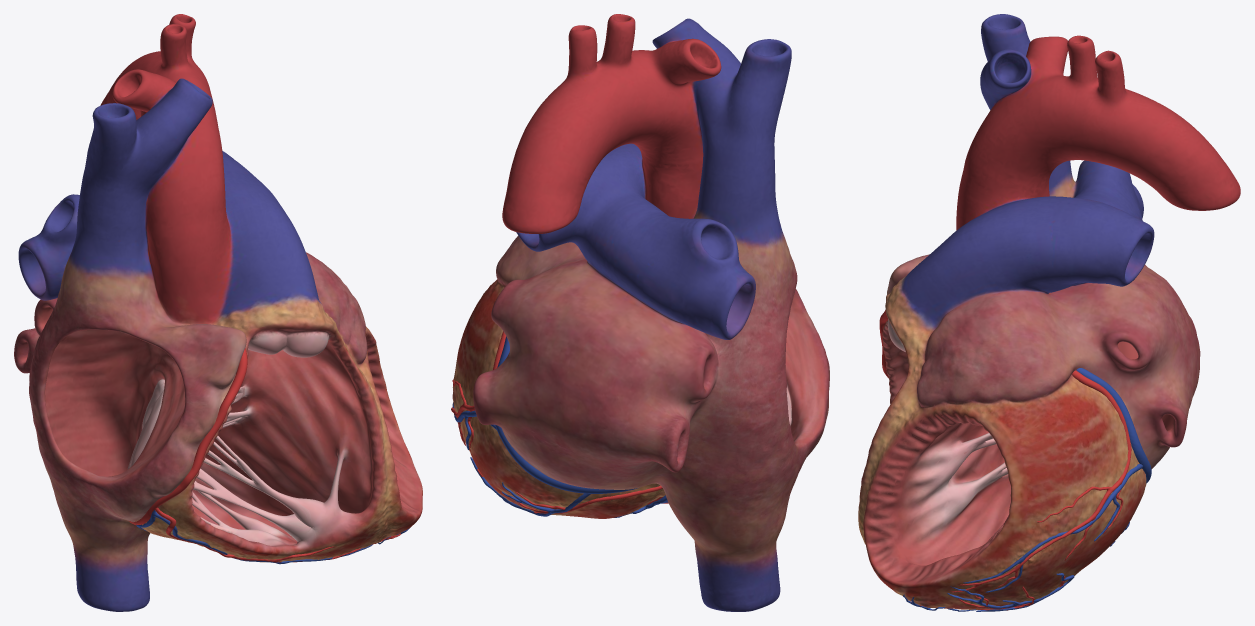
The model's file is dundee_heart.glb.
3 renders of one model, left to right at view 1: azimuth 30°, elevation 25°; view 2: azimuth 150°, elevation 25°; view 3: azimuth 270°, elevation 25°, orthographic. The views are drawn at different scales.
Parts seen in each view (by area): view 1: defaultMaterial (×3); view 2: defaultMaterial (×3); view 3: defaultMaterial (×3).
Part boxes in pixels (bbox=[...]): defaultMaterial (×3): bbox=[14, 14, 422, 611]; defaultMaterial (×3): bbox=[451, 14, 829, 611]; defaultMaterial (×3): bbox=[858, 14, 1240, 611].
Bounding box in the file's own units: 0.4778 × 0.7535 × 0.4759.
Materials: 3 (1 with a texture image).
